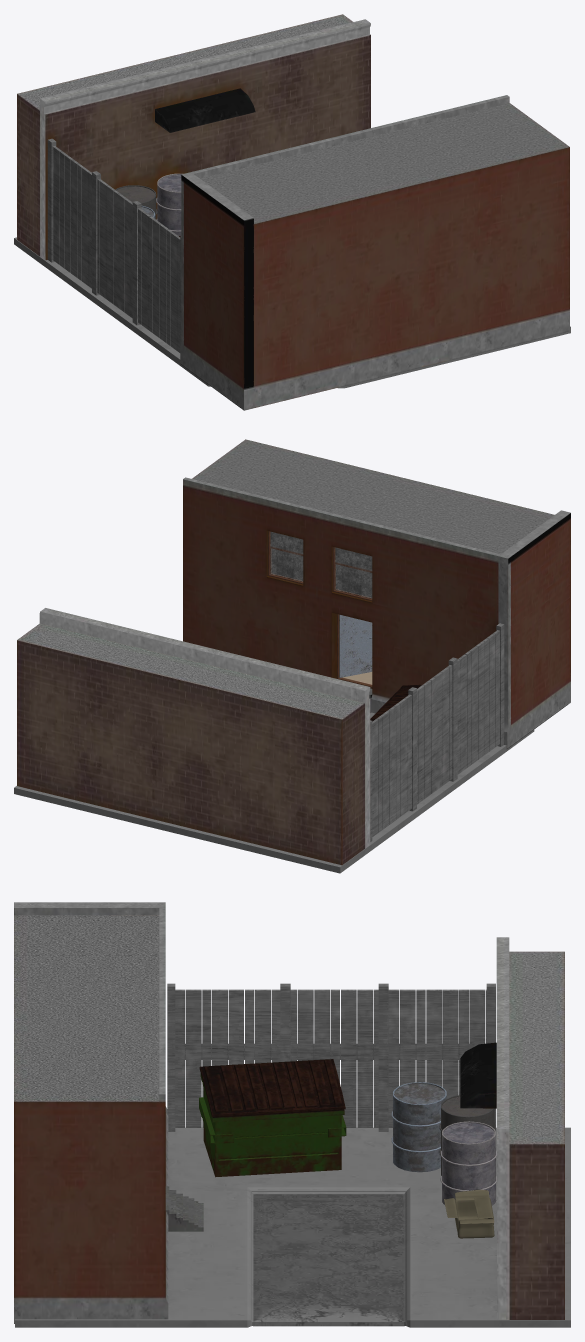
Rendered from alleyway.glb.
The picture shows the model from 3 angles, top to bottom: view 1: azimuth 30°, elevation 25°; view 2: azimuth 150°, elevation 25°; view 3: azimuth 270°, elevation 25°; orthographic projection. The views are drawn at different scales.
Parts seen in each view (by area): view 1: building_2, building_1, wooden_fence, pavement, barrel_1, barrel_2; view 2: building_2, building_1, wooden_fence, pavement, metal_door, window_2, window_1; view 3: building_2, pavement, wooden_fence, building_1, dumpster, barrel_4, barrel_1, cardboard_package_1, barrel_2.
Boxes of the visible parts, x1,y1,x2,y2 form: building_2: [180, 95, 569, 410]; building_1: [17, 14, 370, 260]; wooden_fence: [47, 138, 181, 352]; pavement: [14, 237, 570, 388]; barrel_1: [156, 173, 183, 236]; barrel_2: [115, 185, 157, 219]; building_2: [183, 439, 570, 748]; building_1: [17, 608, 370, 865]; wooden_fence: [370, 623, 504, 841]; pavement: [14, 712, 534, 873]; metal_door: [339, 614, 372, 677]; window_2: [334, 547, 372, 599]; window_1: [270, 531, 303, 582]; building_2: [14, 902, 203, 1323]; pavement: [15, 1127, 570, 1327]; wooden_fence: [167, 983, 495, 1131]; building_1: [460, 937, 564, 1319]; dumpster: [199, 1059, 346, 1177]; barrel_4: [391, 1082, 446, 1172]; barrel_1: [440, 1121, 496, 1205]; cardboard_package_1: [444, 1189, 494, 1238]; barrel_2: [439, 1095, 495, 1175].
Bounding box in the file's own units: 24.99 × 14.13 × 30.5.
Materials: 13 (13 with a texture image).
